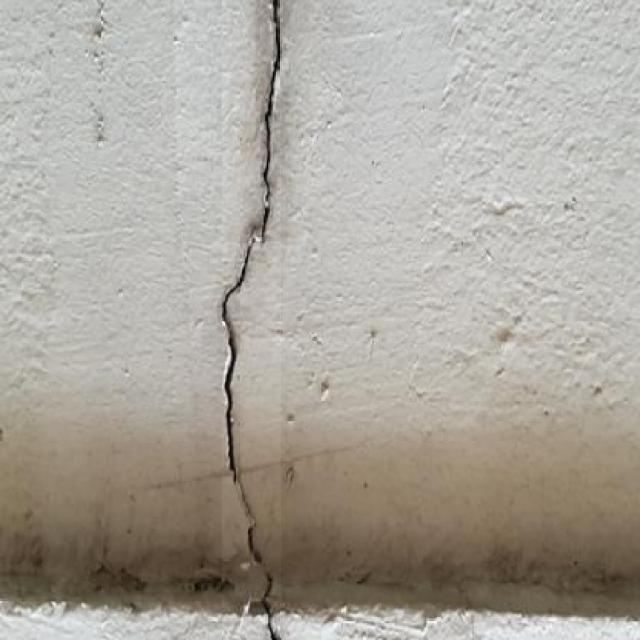vertical crack: (223, 0, 281, 638)
